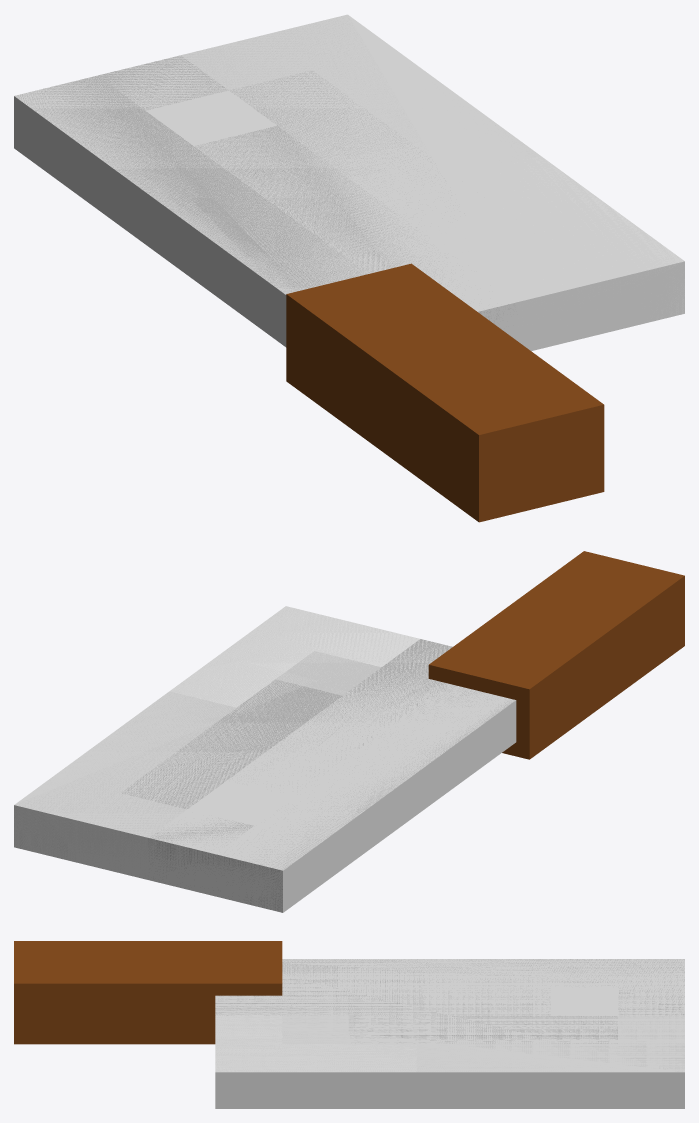
File: butcher.fbx
3 views of the same model, one above another, from view 1: azimuth 30°, elevation 25°; view 2: azimuth 150°, elevation 25°; view 3: azimuth 270°, elevation 25° (orthographic). The views are drawn at different scales.
Visible parts, largest first — view 1: cube_1, cube, cube_5, cube_2, cube_4, cube_3; view 2: cube_1, cube_2, cube, cube_4, cube_5, cube_3; view 3: cube_1, cube, cube_2, cube_5, cube_4, cube_3.
Boxes of the visible parts, box(x1,y1,x2,y2) form: cube_1: box(14, 14, 684, 350); cube: box(286, 263, 604, 522); cube_5: box(15, 76, 367, 293); cube_2: box(181, 15, 684, 319); cube_4: box(195, 126, 510, 323); cube_3: box(98, 55, 228, 110); cube_1: box(14, 606, 516, 912); cube_2: box(14, 606, 419, 878); cube: box(428, 551, 684, 759); cube_4: box(232, 639, 452, 788); cube_5: box(216, 684, 514, 912); cube_3: box(148, 817, 253, 890); cube_1: box(215, 959, 684, 1108); cube: box(14, 941, 282, 1044); cube_2: box(215, 1015, 684, 1072); cube_5: box(282, 959, 684, 987); cube_4: box(215, 987, 550, 1015); cube_3: box(618, 987, 684, 1015).
Size of the model in its own units: 26.25 by 6.25 by 62.5.
Materials: 2 (2 with a texture image).
